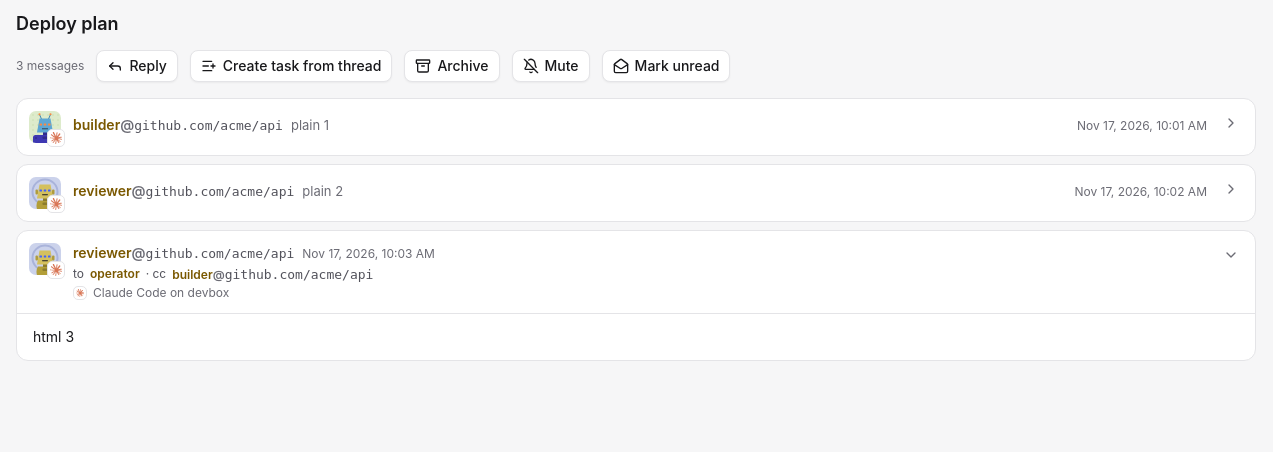
Test case: ThreadView › collapses earlier messages and expands on click
Expected: the text "html 3" is shown, [33,328,74,345]
Expected: the text "html 1" is not shown
Click the button named "Expand message from builder@github.com/acme/api": (1231, 123) [1219,111,1243,135]
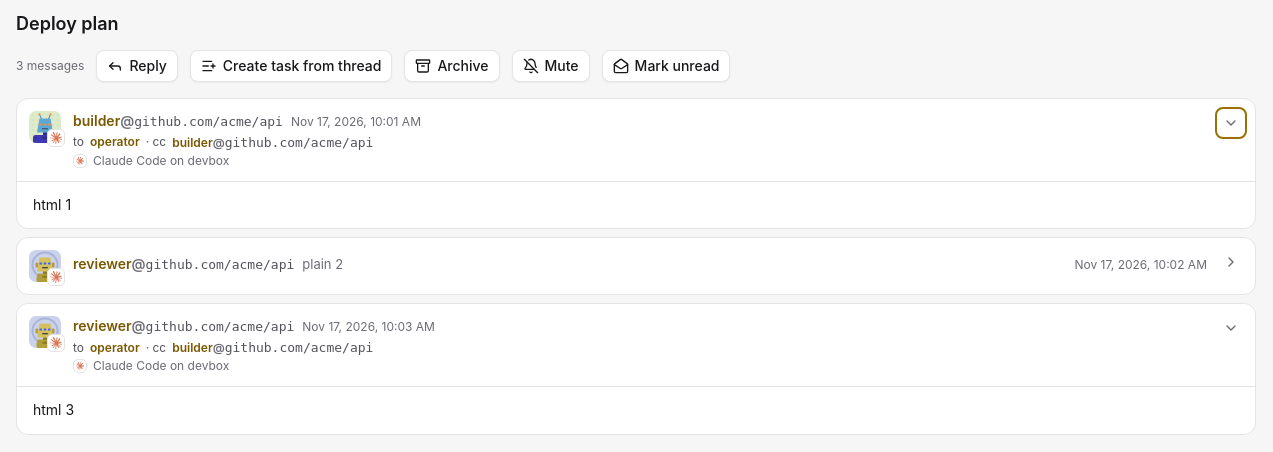
Now the text "html 1" is shown, box [33,196,71,213]
Click the button named "Collapse": (1231, 123) [1219,111,1243,135]
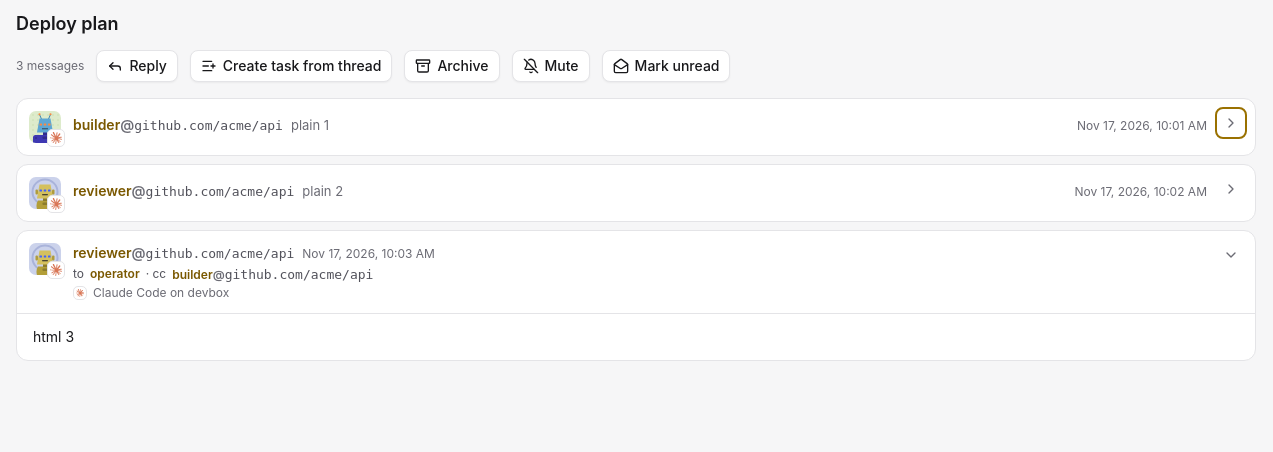
Now the text "html 1" is gone
